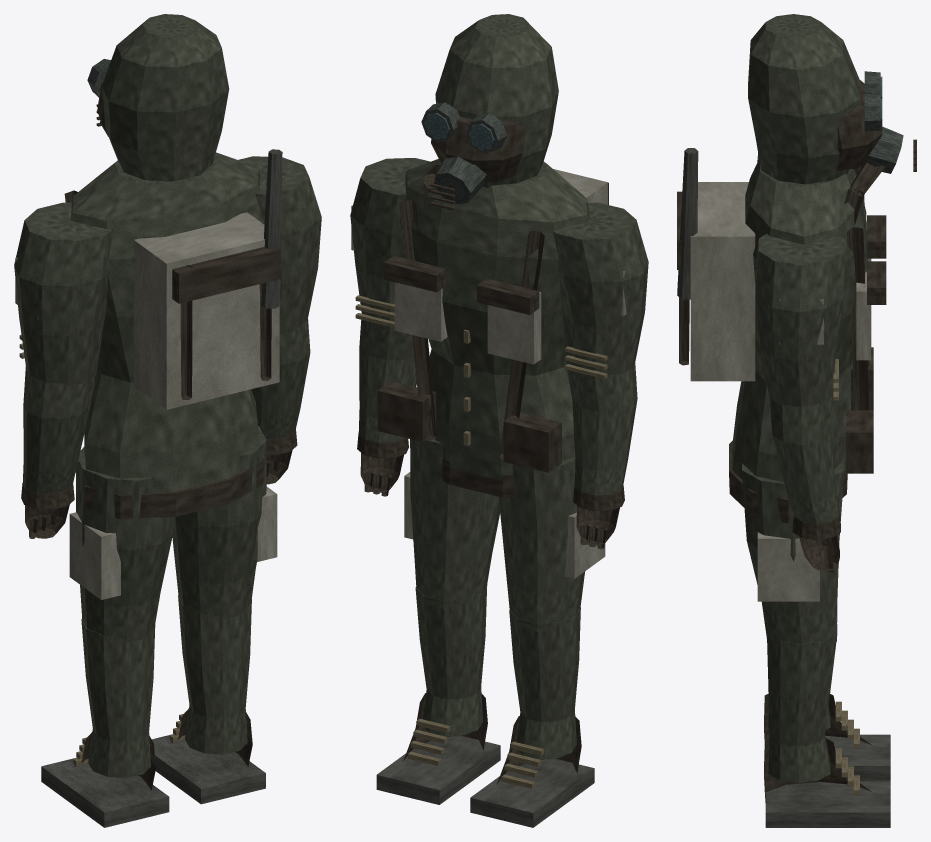
The model's file is watchman_rework.gltf.
3 renders of one model, left to right at view 1: azimuth 30°, elevation 25°; view 2: azimuth 150°, elevation 25°; view 3: azimuth 270°, elevation 25°, orthographic. The views are drawn at different scales.
Parts seen in each view (by area): view 1: Coat, Head, ShinL, ArmL, ShinR, LegL, LegR, ForearmL, ArmR, ForearmR; view 2: Coat, Head, ShinL, ShinR, ArmL, LegL, LegR, ForearmL, ArmR, ForearmR; view 3: Coat, Head, ShinR, ArmR, LegR, ForearmR, ShinL.
Part boxes in pixels (x1,y1,x2,y2): Coat: (64, 149, 282, 518); Head: (87, 14, 229, 181); ShinL: (41, 619, 169, 827); ArmL: (14, 202, 113, 386); ShinR: (152, 595, 265, 804); LegL: (69, 447, 174, 642); LegR: (172, 426, 277, 619); ForearmL: (21, 366, 95, 538); ArmR: (238, 156, 321, 334); ForearmR: (251, 319, 310, 484); Coat: (377, 159, 608, 498); Head: (421, 14, 558, 210); ShinL: (470, 607, 594, 827); ShinR: (376, 584, 500, 804); ArmL: (552, 202, 648, 380); LegL: (499, 457, 605, 631); LegR: (404, 439, 500, 608); ForearmL: (566, 362, 637, 549); ArmR: (350, 158, 429, 331); ForearmR: (357, 312, 416, 496); Coat: (677, 148, 886, 523); Head: (748, 14, 916, 225); ShinR: (764, 624, 890, 827); ArmR: (755, 233, 844, 406); LegR: (742, 460, 844, 643); ForearmR: (770, 396, 840, 575); ShinL: (764, 693, 890, 781).
Size of the model in its own units: 0.788 by 1.95 by 0.556.
1 material, 1 textured.
